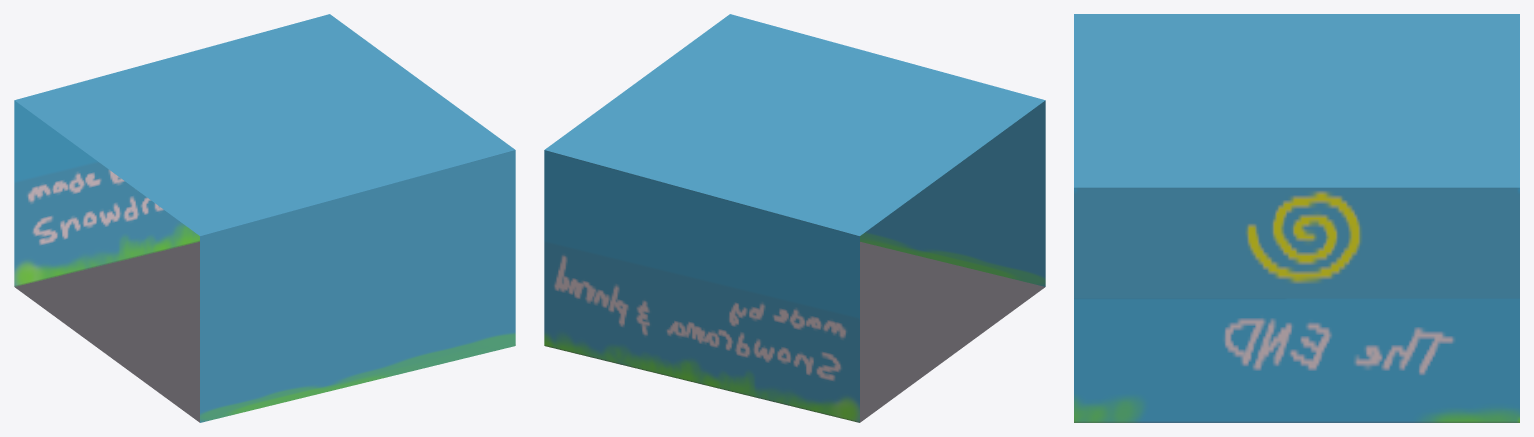
Rendered from outside.fbx.
3 views of the same model, side by side, from view 1: azimuth 30°, elevation 25°; view 2: azimuth 150°, elevation 25°; view 3: azimuth 270°, elevation 25° (orthographic). The views are drawn at different scales.
Visible parts, largest first — view 1: Garage_Room.002; view 2: Garage_Room.002; view 3: Garage_Room.002.
Boxes of the visible parts, bbox=[...] form: Garage_Room.002: bbox=[14, 14, 515, 422]; Garage_Room.002: bbox=[544, 14, 1045, 422]; Garage_Room.002: bbox=[1074, 14, 1519, 422].
Size of the model in its own units: 875 by 520 by 893.
1 material, 1 textured.
